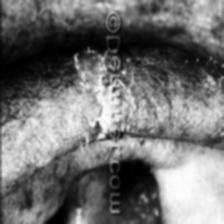Potentially Malignant Skin Tumors: (72, 40, 106, 136)
